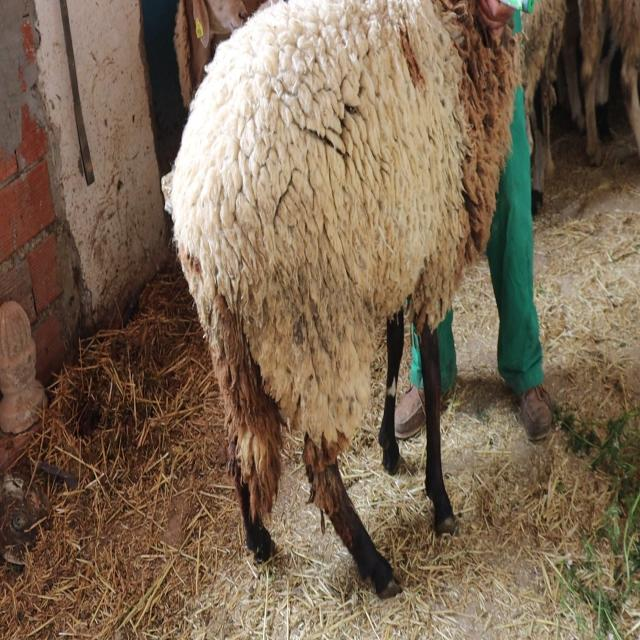Score_5: (170, 0, 519, 597)
